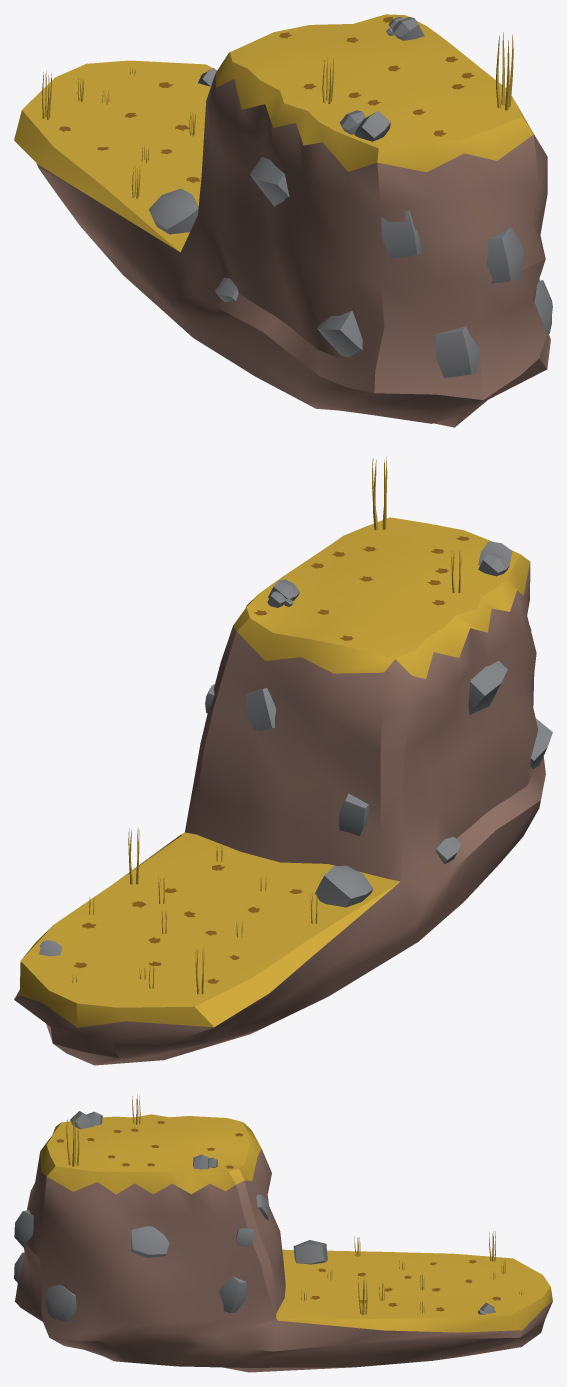
The model's file is vertical_island_fall.fbx.
3 renders of one model, top to bottom at view 1: azimuth 30°, elevation 25°; view 2: azimuth 150°, elevation 25°; view 3: azimuth 270°, elevation 25°, orthographic. The views are drawn at different scales.
Parts seen in each view (by area): view 1: Vertical_Island._Spring.001; view 2: Vertical_Island._Spring.001; view 3: Vertical_Island._Spring.001.
Part boxes in pixels (x1,y1,x2,y2): Vertical_Island._Spring.001: [14, 14, 552, 427]; Vertical_Island._Spring.001: [14, 456, 552, 1065]; Vertical_Island._Spring.001: [14, 1094, 552, 1372].
Bounding box in the file's own units: 948 × 1487 × 2708.
